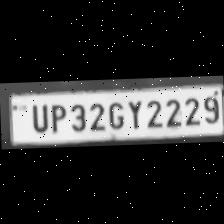2: (160, 96, 182, 128), (142, 96, 162, 129), (180, 94, 200, 127), (86, 100, 104, 132)
3: (66, 100, 86, 132)
9: (200, 92, 220, 125)
G: (104, 98, 124, 130)
P: (46, 101, 66, 133)
U: (26, 100, 48, 132)
Y: (124, 99, 142, 130)
